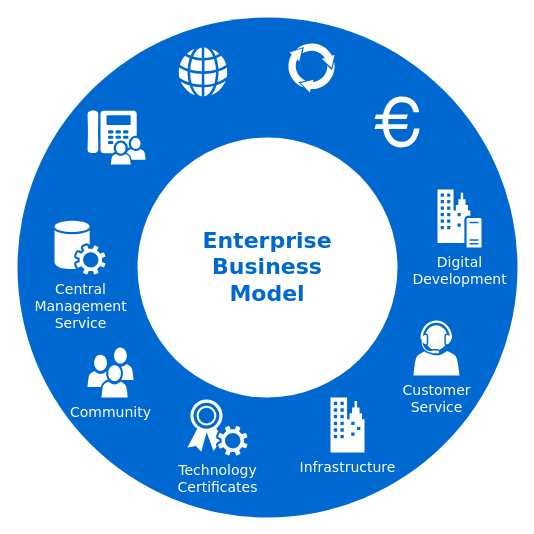
Image size: 534x534. Some labels were removed from this diagram. Each missing label, with the centre of its shape:
Environmental Awareness: [311,67]
Finance: [396,121]
Global Partnerships: [202,71]
Response Group: [116,137]
